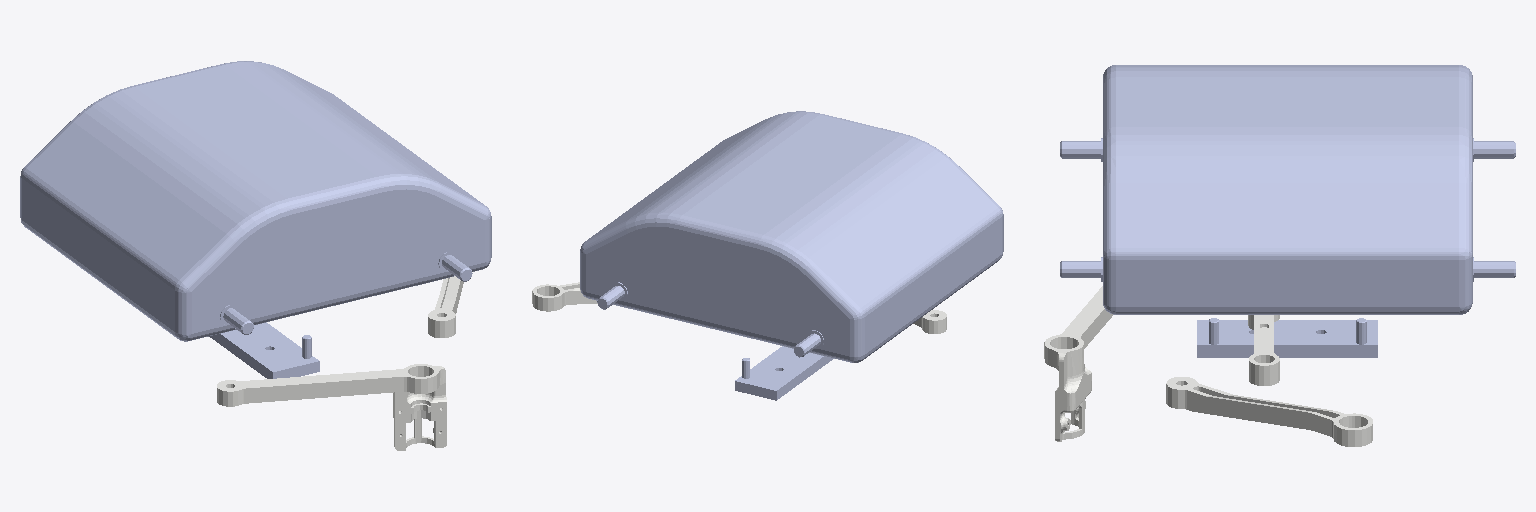
robot.urdf — Simple_arm:
<?xml version="1.0" encoding="utf-8"?>
<!-- This URDF was automatically created by SolidWorks to URDF Exporter! Originally created by [author] ([email redacted]) 
     Commit Version: 1.6.0-1-g15f4949  Build Version: 1.6.7594.29634
     For more information, please see http://wiki.ros.org/sw_urdf_exporter -->
<robot
  name="Simple_arm">
  <link
    name="base_link">
    <inertial>
      <origin
        xyz="0 0.00096032 -0.077662"
        rpy="0 0 0" />
      <mass
        value="2.2832" />
      <inertia
        ixx="0.0060931"
        ixy="6.8625E-19"
        ixz="-2.0657E-17"
        iyy="0.013622"
        iyz="-1.0005E-18"
        izz="0.015978" />
    </inertial>
    <visual>
      <origin
        xyz="0 0 0"
        rpy="0 0 0" />
      <geometry>
        <mesh
          filename="package://Simple_arm/meshes/base_link.STL" />
      </geometry>
      <material
        name="">
        <color
          rgba="0.79216 0.81961 0.93333 1" />
      </material>
    </visual>
    <collision>
      <origin
        xyz="0 0 0"
        rpy="0 0 0" />
      <geometry>
        <mesh
          filename="package://Simple_arm/meshes/base_link.STL" />
      </geometry>
    </collision>
  </link>
  <link
    name="z_link">
    <inertial>
      <origin
        xyz="6.7446E-15 -0.00054131 0.0054279"
        rpy="0 0 0" />
      <mass
        value="0.061611" />
      <inertia
        ixx="1.1718E-05"
        ixy="-1.9639E-20"
        ixz="1.3001E-21"
        iyy="9.8218E-05"
        iyz="4.4627E-07"
        izz="0.00010811" />
    </inertial>
    <visual>
      <origin
        xyz="0 0 0"
        rpy="0 0 0" />
      <geometry>
        <mesh
          filename="package://Simple_arm/meshes/z_link.STL" />
      </geometry>
      <material
        name="">
        <color
          rgba="0.79216 0.81961 0.93333 1" />
      </material>
    </visual>
    <collision>
      <origin
        xyz="0 0 0"
        rpy="0 0 0" />
      <geometry>
        <mesh
          filename="package://Simple_arm/meshes/z_link.STL" />
      </geometry>
    </collision>
  </link>
  <joint
    name="z_pris"
    type="prismatic">
    <origin
      xyz="0 0 -0.05"
      rpy="0 0 0" />
    <parent
      link="base_link" />
    <child
      link="z_link" />
    <axis
      xyz="0 0 1" />
    <limit
      lower="0"
      upper="290"
      effort="0"
      velocity="0" />
  </joint>
  <link
    name="right_shldr_link">
    <inertial>
      <origin
        xyz="-0.016836 -0.05003 -0.039684"
        rpy="0 0 0" />
      <mass
        value="0.025561" />
      <inertia
        ixx="2.9984E-05"
        ixy="-1.1881E-05"
        ixz="-7.1531E-08"
        iyy="6.0928E-06"
        iyz="-2.1295E-07"
        izz="3.495E-05" />
    </inertial>
    <visual>
      <origin
        xyz="0 0 0"
        rpy="0 0 0" />
      <geometry>
        <mesh
          filename="package://Simple_arm/meshes/right_shldr_link.STL" />
      </geometry>
      <material
        name="">
        <color
          rgba="0.96471 0.96471 0.95294 1" />
      </material>
    </visual>
    <collision>
      <origin
        xyz="0 0 0"
        rpy="0 0 0" />
      <geometry>
        <mesh
          filename="package://Simple_arm/meshes/right_shldr_link.STL" />
      </geometry>
    </collision>
  </link>
  <joint
    name="right_shldr_rev"
    type="revolute">
    <origin
      xyz="-0.055 -0.01747 0.06"
      rpy="0 0 0" />
    <parent
      link="z_link" />
    <child
      link="right_shldr_link" />
    <axis
      xyz="0 0 1" />
    <limit
      lower="0"
      upper="0"
      effort="0"
      velocity="0" />
  </joint>
  <link
    name="right_elbw_link">
    <inertial>
      <origin
        xyz="0.10495 -0.030838 -0.034081"
        rpy="0 0 0" />
      <mass
        value="0.052137" />
      <inertia
        ixx="3.0576E-05"
        ixy="4.6078E-05"
        ixz="2.9013E-05"
        iyy="0.00018419"
        iyz="-6.4366E-06"
        izz="0.00018284" />
    </inertial>
    <visual>
      <origin
        xyz="0 0 0"
        rpy="0 0 0" />
      <geometry>
        <mesh
          filename="package://Simple_arm/meshes/right_elbw_link.STL" />
      </geometry>
      <material
        name="">
        <color
          rgba="0.96471 0.96471 0.95294 1" />
      </material>
    </visual>
    <collision>
      <origin
        xyz="0 0 0"
        rpy="0 0 0" />
      <geometry>
        <mesh
          filename="package://Simple_arm/meshes/right_elbw_link.STL" />
      </geometry>
    </collision>
  </link>
  <joint
    name="right_elbw_rev"
    type="revolute">
    <origin
      xyz="-0.033934 -0.094066 -0.0311"
      rpy="0 0 -0.34621" />
    <parent
      link="right_shldr_link" />
    <child
      link="right_elbw_link" />
    <axis
      xyz="0 0 -1" />
    <limit
      lower="0"
      upper="0"
      effort="0"
      velocity="0" />
  </joint>
  <link
    name="left_shldr_link">
    <inertial>
      <origin
        xyz="0.040977 -0.033277 -0.039684"
        rpy="0 0 0" />
      <mass
        value="0.025561" />
      <inertia
        ixx="1.2418E-05"
        ixy="1.5883E-05"
        ixz="1.743E-07"
        iyy="2.3659E-05"
        iyz="-1.417E-07"
        izz="3.495E-05" />
    </inertial>
    <visual>
      <origin
        xyz="0 0 0"
        rpy="0 0 0" />
      <geometry>
        <mesh
          filename="package://Simple_arm/meshes/left_shldr_link.STL" />
      </geometry>
      <material
        name="">
        <color
          rgba="0.96471 0.96471 0.95294 1" />
      </material>
    </visual>
    <collision>
      <origin
        xyz="0 0 0"
        rpy="0 0 0" />
      <geometry>
        <mesh
          filename="package://Simple_arm/meshes/left_shldr_link.STL" />
      </geometry>
    </collision>
  </link>
  <joint
    name="left_shldr_rev"
    type="revolute">
    <origin
      xyz="0.055 -0.01747 0.06"
      rpy="0 0 0" />
    <parent
      link="z_link" />
    <child
      link="left_shldr_link" />
    <axis
      xyz="0 0 1" />
    <limit
      lower="0"
      upper="0"
      effort="0"
      velocity="0" />
  </joint>
  <link
    name="left_elbw_link">
    <inertial>
      <origin
        xyz="-0.07785 -0.0028281 -0.018094"
        rpy="0 0 0" />
      <mass
        value="0.034948" />
      <inertia
        ixx="3.163E-06"
        ixy="-3.6554E-06"
        ixz="1.1206E-05"
        iyy="0.00010476"
        iyz="3.4164E-07"
        izz="0.00010418" />
    </inertial>
    <visual>
      <origin
        xyz="0 0 0"
        rpy="0 0 0" />
      <geometry>
        <mesh
          filename="package://Simple_arm/meshes/left_elbw_link.STL" />
      </geometry>
      <material
        name="">
        <color
          rgba="0.96471 0.96471 0.95294 1" />
      </material>
    </visual>
    <collision>
      <origin
        xyz="0 0 0"
        rpy="0 0 0" />
      <geometry>
        <mesh
          filename="package://Simple_arm/meshes/left_elbw_link.STL" />
      </geometry>
    </collision>
  </link>
  <joint
    name="left_elbw_rev"
    type="revolute">
    <origin
      xyz="0.078971 -0.061348 -0.0311"
      rpy="0 0 0.91033" />
    <parent
      link="left_shldr_link" />
    <child
      link="left_elbw_link" />
    <axis
      xyz="0 0 1" />
    <limit
      lower="0"
      upper="0"
      effort="0"
      velocity="0" />
  </joint>
</robot>

--- What the picture shows (computed from the rendered views, not written in the file) ---
3 views of the same robot in one strip: view 1: azimuth 30°, elevation 25°; view 2: azimuth 150°, elevation 25°; view 3: azimuth 270°, elevation 25° (orthographic).
Robot: Simple_arm — 6 links, 5 joints (4 revolute, 1 prismatic); root link base_link; default pose: all joints at 0.
Links seen in each view (by area): view 1: base_link, right_elbw_link, z_link, left_elbw_link; view 2: base_link, z_link, left_elbw_link, right_elbw_link; view 3: base_link, z_link, left_elbw_link, right_elbw_link, left_shldr_link.
Link boxes in pixels (left/top/right/bottom): base_link: left=20, top=61, right=491, bottom=341; right_elbw_link: left=217, top=364, right=446, bottom=450; z_link: left=209, top=322, right=319, bottom=378; left_elbw_link: left=428, top=276, right=463, bottom=337; base_link: left=580, top=111, right=1003, bottom=362; z_link: left=735, top=346, right=832, bottom=400; left_elbw_link: left=532, top=282, right=597, bottom=311; right_elbw_link: left=913, top=310, right=946, bottom=333; base_link: left=1060, top=65, right=1515, bottom=314; z_link: left=1197, top=318, right=1377, bottom=357; left_elbw_link: left=1166, top=377, right=1372, bottom=446; right_elbw_link: left=1044, top=286, right=1112, bottom=441; left_shldr_link: left=1248, top=315, right=1279, bottom=385.
Bounding box of the posed robot: 0.4002 × 0.3509 × 0.2407 m (x, y, z).
Meshes: 6 distinct files referenced, 6 mesh visuals loaded (6 binary STL).